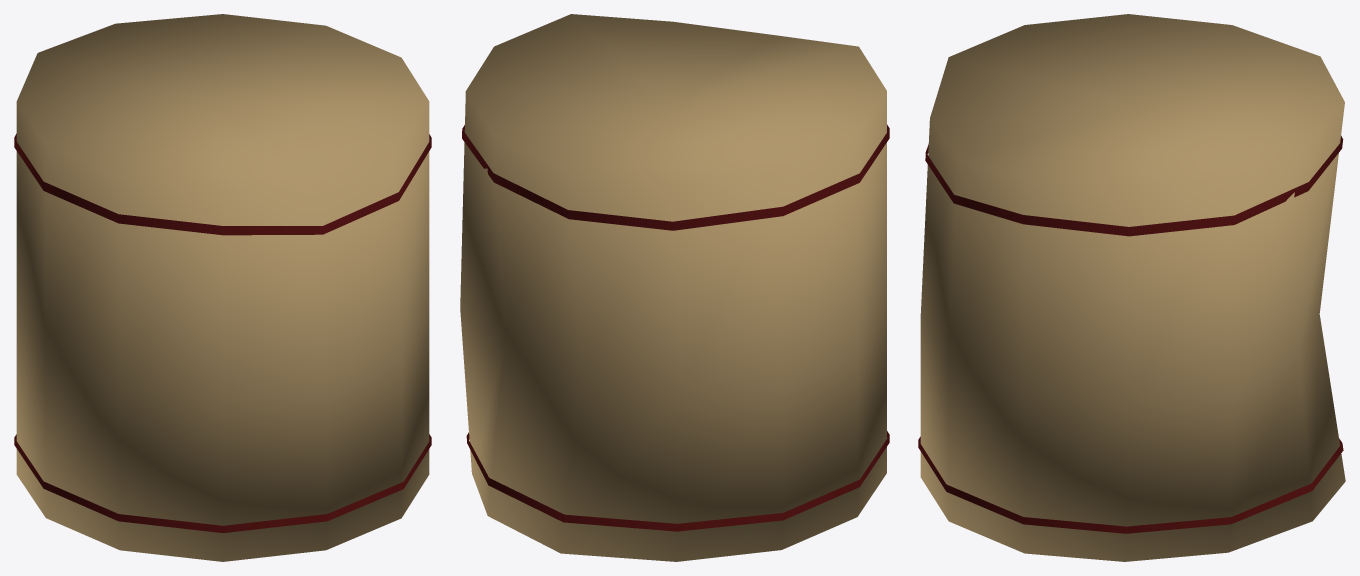
The model's file is HayBail_upright.fbx.
3 views of the same model, side by side, from view 1: azimuth 30°, elevation 25°; view 2: azimuth 150°, elevation 25°; view 3: azimuth 270°, elevation 25° (orthographic). The views are drawn at different scales.
Parts seen in each view (by area): view 1: HayBail_upright; view 2: HayBail_upright; view 3: HayBail_upright.
Boxes of the visible parts, x1,y1,x2,y2 form: HayBail_upright: (14,14,431,561); HayBail_upright: (460,14,889,561); HayBail_upright: (918,14,1345,561).
Bounding box in the file's own units: 0.1212 × 0.1201 × 0.1231.
